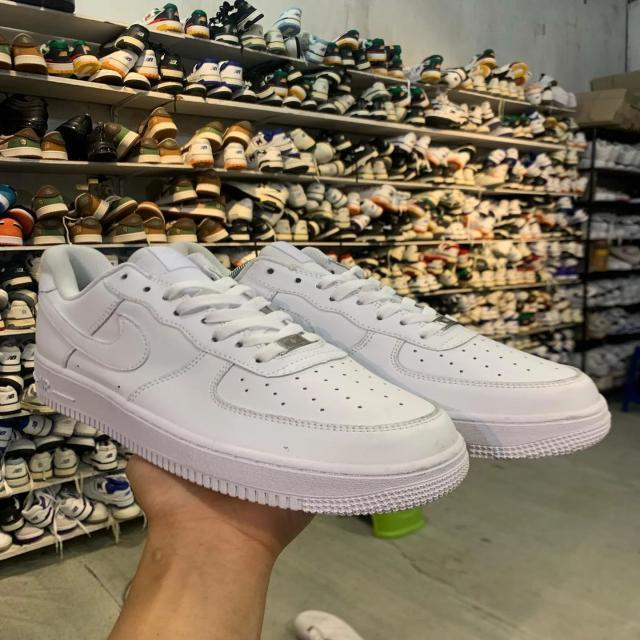nike fake air force: (21, 242, 477, 521), (177, 237, 616, 461)
